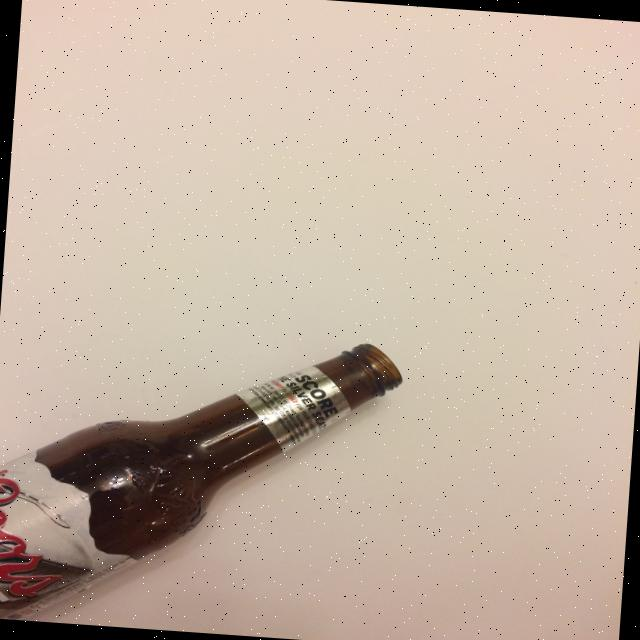glass: (0, 315, 405, 640)
